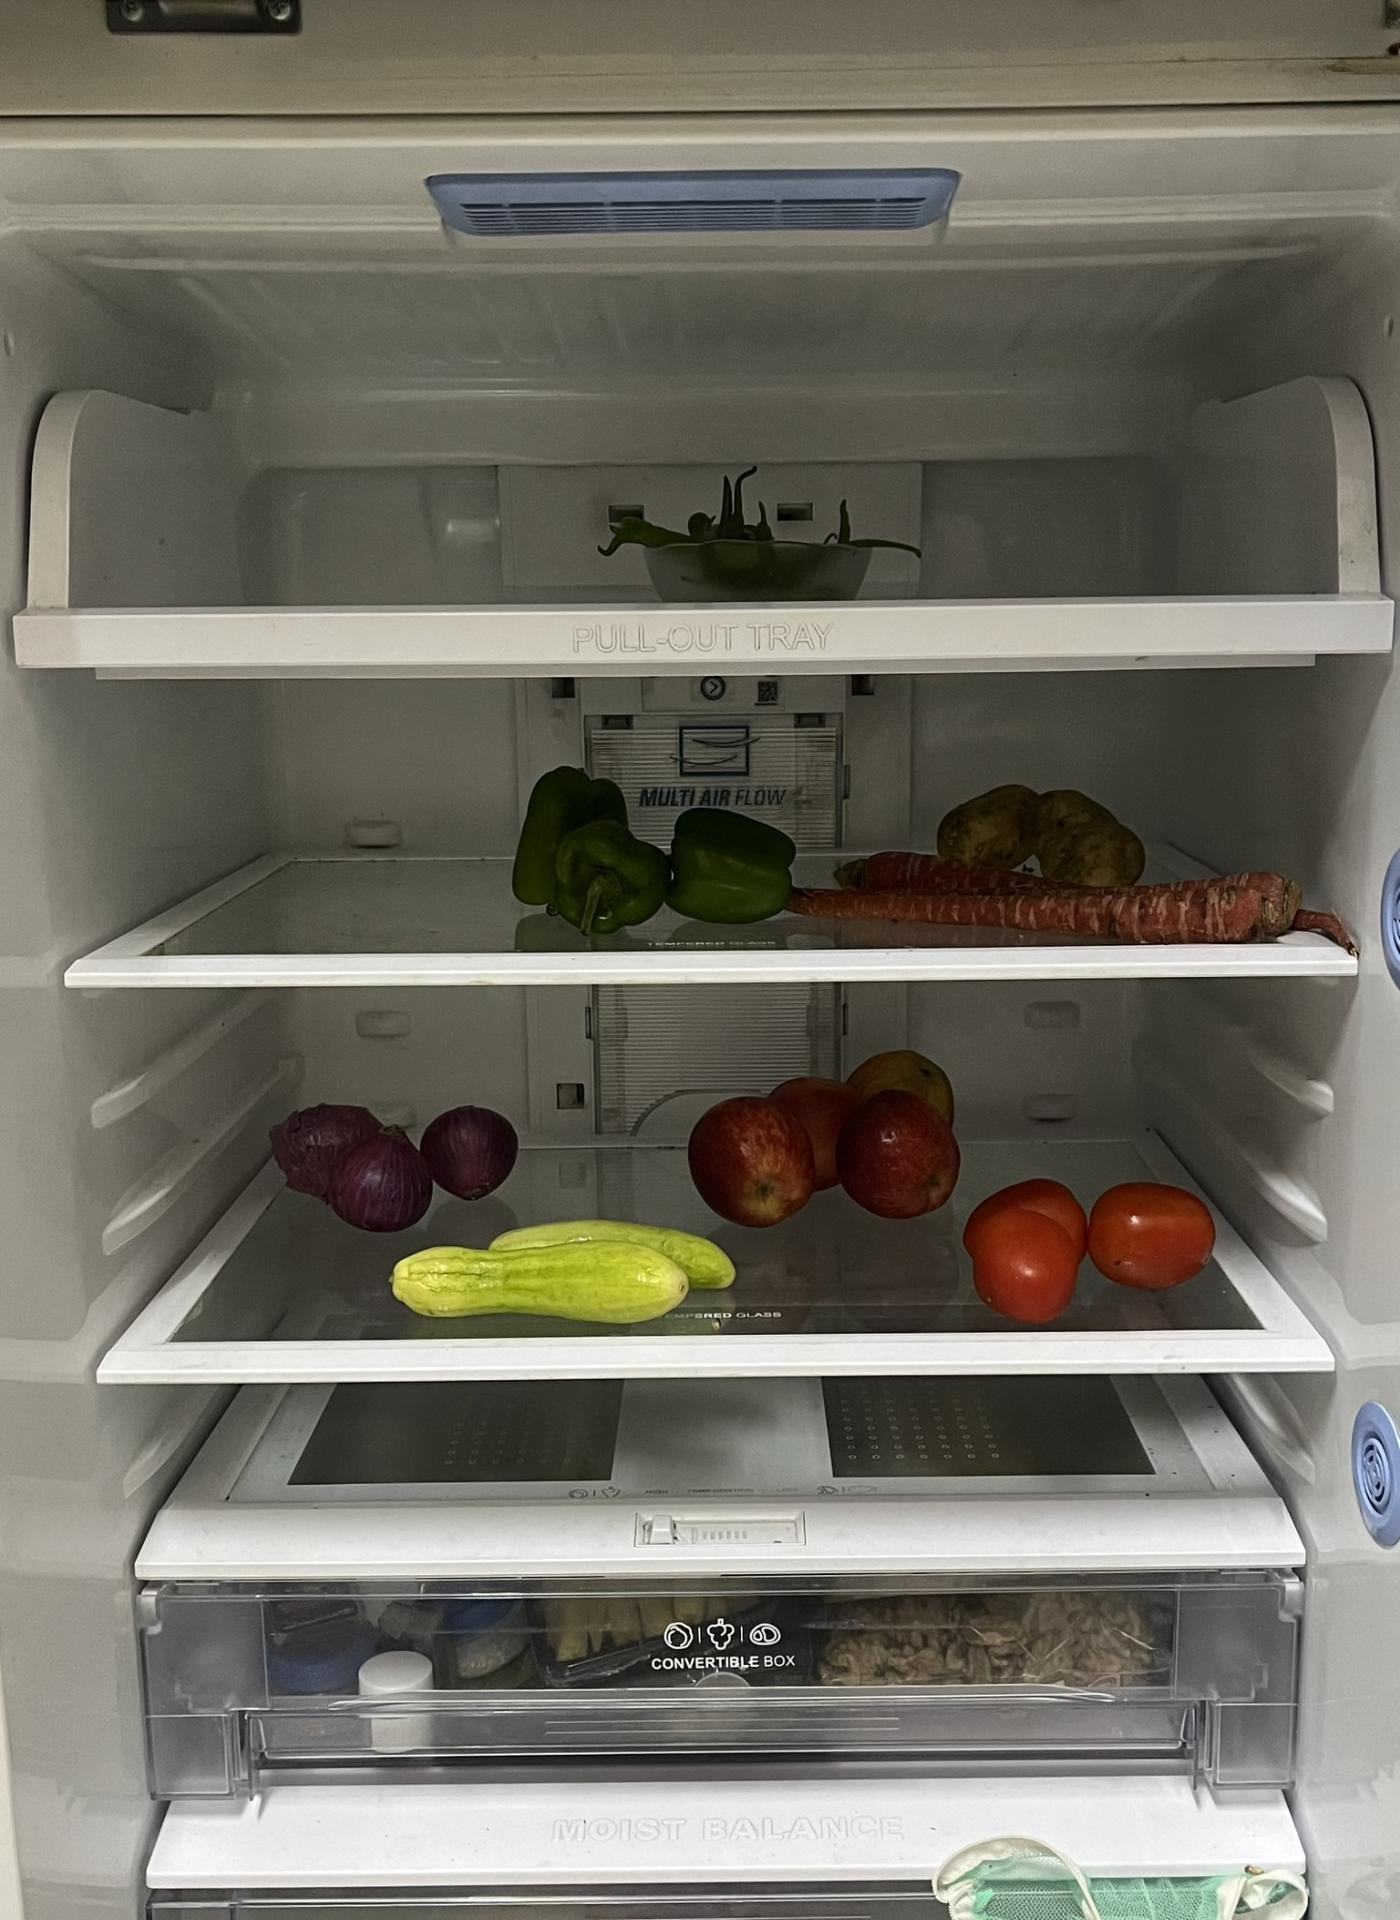apple: (693, 1046, 960, 1231)
capsicum: (507, 763, 799, 926)
carrots: (799, 853, 1343, 941)
chillies: (589, 465, 908, 604)
cucumber: (395, 1216, 738, 1325)
onion: (273, 1091, 519, 1231)
potato: (932, 784, 1154, 878)
tomato: (963, 1178, 1212, 1325)
